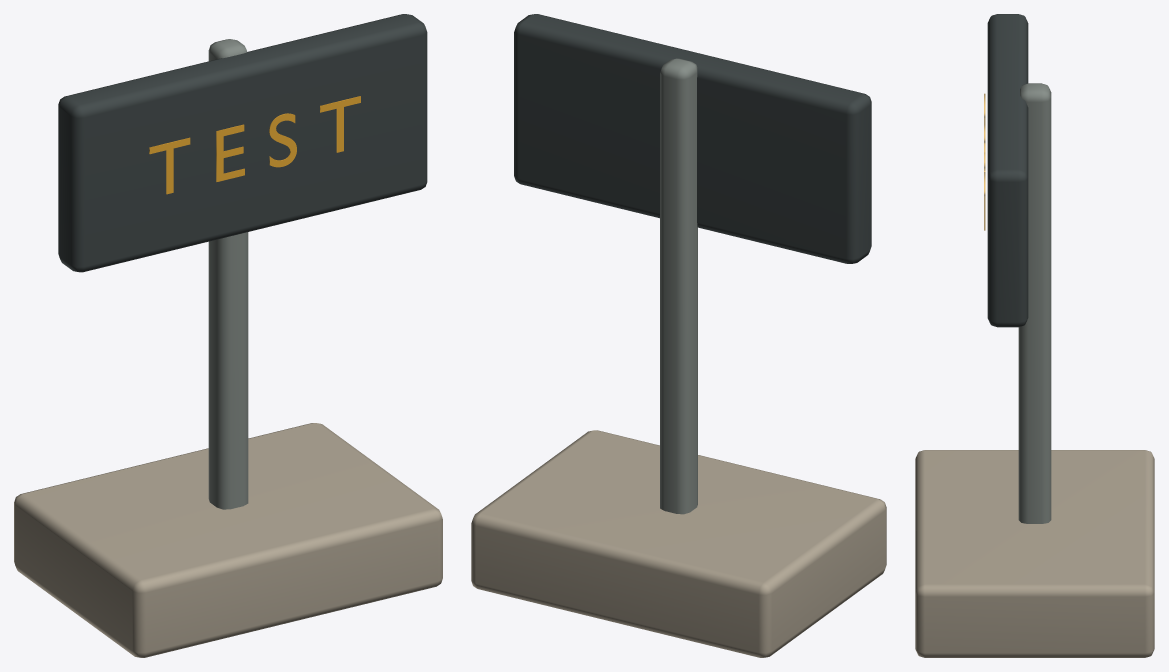
The model's file is range_sign.glb.
3 renders of one model, left to right at view 1: azimuth 30°, elevation 25°; view 2: azimuth 150°, elevation 25°; view 3: azimuth 270°, elevation 25°, orthographic. The views are drawn at different scales.
Visible parts, largest first — view 1: Foot, Plate, Post, T E S T; view 2: Foot, Plate, Post; view 3: Foot, Plate, Post.
Boxes of the visible parts, x1=… form: Foot: x1=14, y1=423, x2=442, y2=657; Plate: x1=58, y1=14, x2=427, y2=272; Post: x1=208, y1=39, x2=248, y2=509; T E S T: x1=149, y1=96, x2=360, y2=194; Foot: x1=471, y1=430, x2=886, y2=657; Plate: x1=514, y1=14, x2=871, y2=263; Post: x1=660, y1=58, x2=697, y2=514; Foot: x1=915, y1=450, x2=1154, y2=657; Plate: x1=987, y1=14, x2=1028, y2=327; Post: x1=1018, y1=83, x2=1051, y2=523.
Size of the model in its own units: 1 by 1.44 by 0.62.
